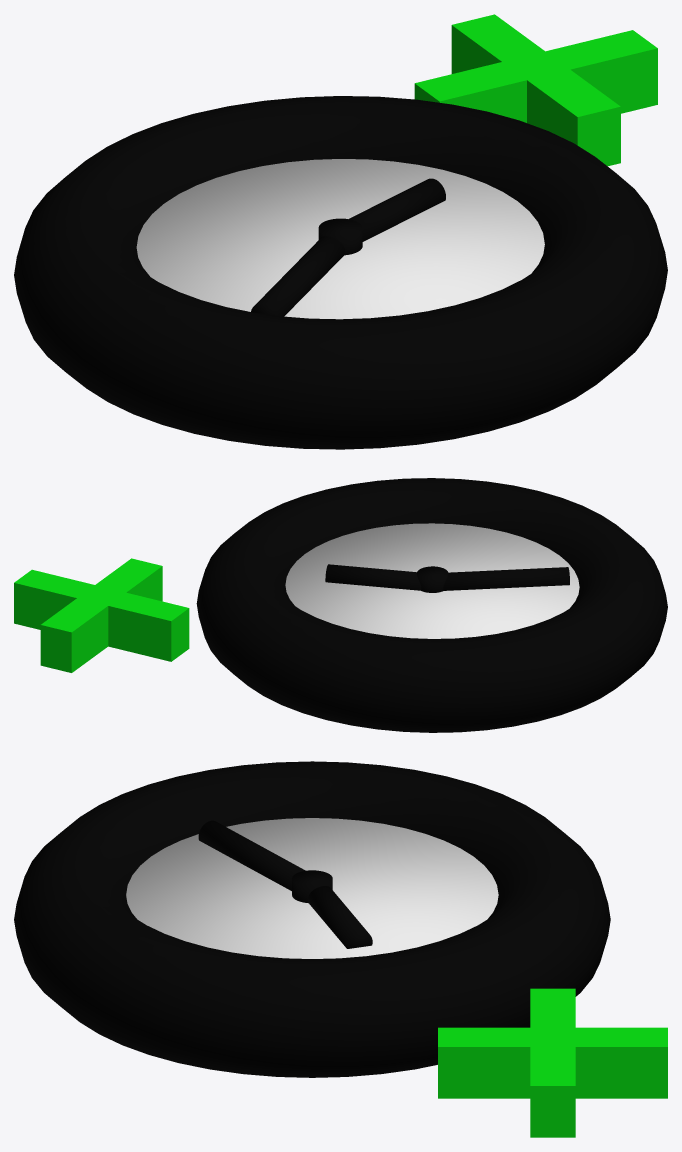
File: KLOK.fbx
3 views of the same model, one above another, from view 1: azimuth 30°, elevation 25°; view 2: azimuth 150°, elevation 25°; view 3: azimuth 270°, elevation 25° (orthographic). The views are drawn at different scales.
Visible parts, largest first — view 1: Zegar +; view 2: Zegar +; view 3: Zegar +.
Part boxes in pixels (bbox=[...]): Zegar +: bbox=[14, 14, 667, 449]; Zegar +: bbox=[14, 478, 667, 732]; Zegar +: bbox=[14, 761, 667, 1137].
Bounding box in the file's own units: 3.4 × 0.5554 × 2.93.
